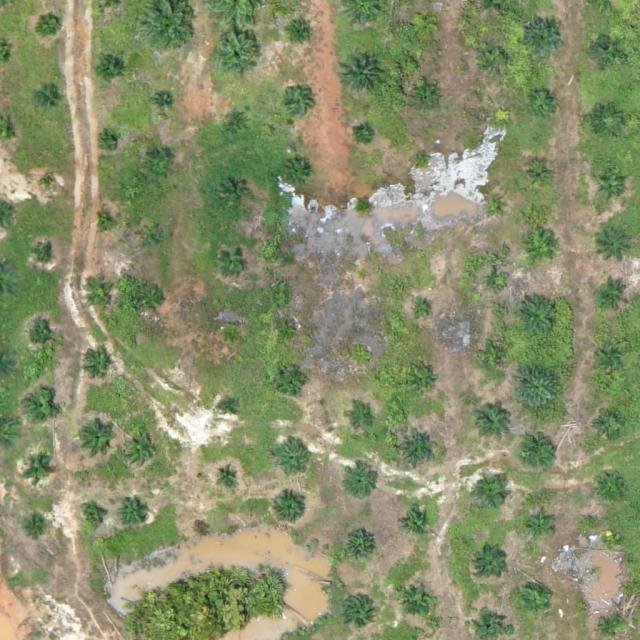Small: (210, 28, 265, 83), (516, 429, 563, 477), (516, 364, 563, 412), (339, 50, 386, 98), (513, 293, 560, 340), (120, 430, 160, 470), (399, 430, 439, 469), (271, 490, 310, 530), (398, 579, 437, 619), (273, 439, 312, 479), (526, 19, 565, 59), (79, 419, 118, 459), (471, 401, 510, 440), (597, 226, 636, 265), (140, 284, 171, 316), (346, 467, 377, 499), (344, 530, 375, 562), (401, 507, 432, 539), (277, 365, 308, 397), (593, 106, 624, 138), (592, 32, 623, 64), (480, 42, 511, 74), (410, 9, 441, 41), (528, 88, 559, 120), (596, 171, 627, 203), (85, 280, 116, 312), (476, 608, 507, 639), (478, 480, 509, 511), (476, 548, 507, 579), (595, 469, 626, 500), (594, 409, 625, 440), (518, 583, 549, 614), (342, 595, 373, 626), (527, 235, 558, 266), (414, 85, 445, 116), (595, 338, 626, 369), (598, 278, 629, 309), (525, 161, 556, 192), (28, 325, 59, 356), (26, 393, 57, 424), (82, 351, 113, 382), (120, 498, 151, 529), (282, 88, 313, 119), (284, 160, 315, 191), (220, 246, 251, 277), (220, 180, 251, 211), (224, 108, 255, 139), (145, 152, 176, 183), (94, 52, 125, 83), (527, 514, 551, 538), (347, 408, 371, 432), (25, 458, 49, 482), (26, 515, 50, 539), (80, 504, 104, 528), (413, 372, 436, 396), (218, 465, 241, 489), (220, 325, 244, 348), (141, 228, 165, 251), (41, 12, 64, 36), (278, 321, 301, 345), (38, 90, 61, 113), (489, 350, 505, 366), (221, 400, 237, 416), (356, 269, 372, 285), (357, 128, 372, 144), (415, 151, 430, 167), (602, 532, 618, 547), (101, 134, 117, 149), (485, 197, 500, 212), (488, 277, 503, 292), (415, 304, 430, 319), (156, 94, 171, 109), (97, 215, 112, 230), (42, 177, 57, 192), (38, 247, 53, 262), (295, 25, 310, 40)
